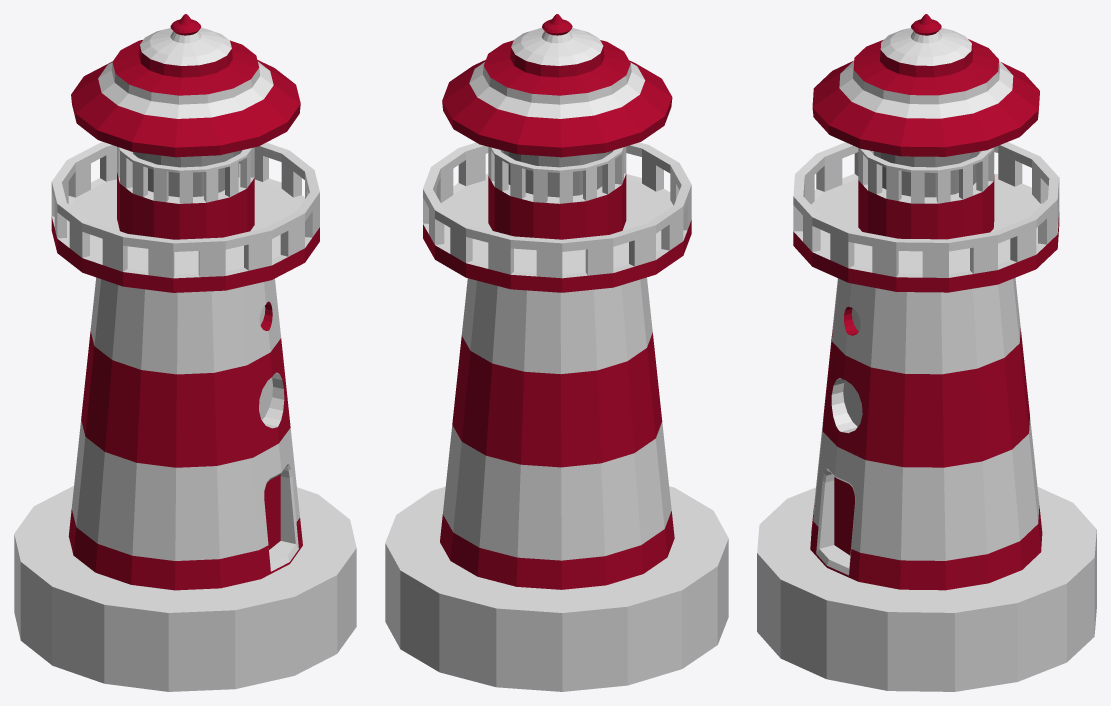
File: lighthouse idle.fbx
The picture shows the model from 3 angles, left to right: view 1: azimuth 30°, elevation 25°; view 2: azimuth 150°, elevation 25°; view 3: azimuth 270°, elevation 25°; orthographic projection.
Visible parts, largest first — view 1: Circle.001, Circle.127; view 2: Circle.001, Circle.127; view 3: Circle.001, Circle.127.
Part boxes in pixels (x1,y1,x2,y2): Circle.001: (51, 14, 319, 590); Circle.127: (14, 486, 356, 691); Circle.001: (423, 14, 691, 589); Circle.127: (385, 486, 728, 691); Circle.001: (793, 14, 1059, 590); Circle.127: (757, 487, 1096, 691).
Size of the model in its own units: 2533 by 4983 by 2533.
